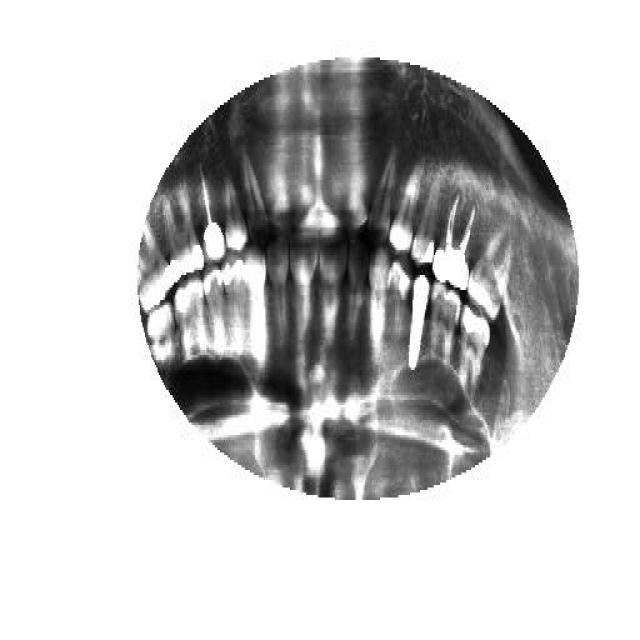Fillings: (461, 302, 490, 388)
Implant: (432, 190, 478, 288), (202, 163, 228, 265), (408, 272, 432, 378)
